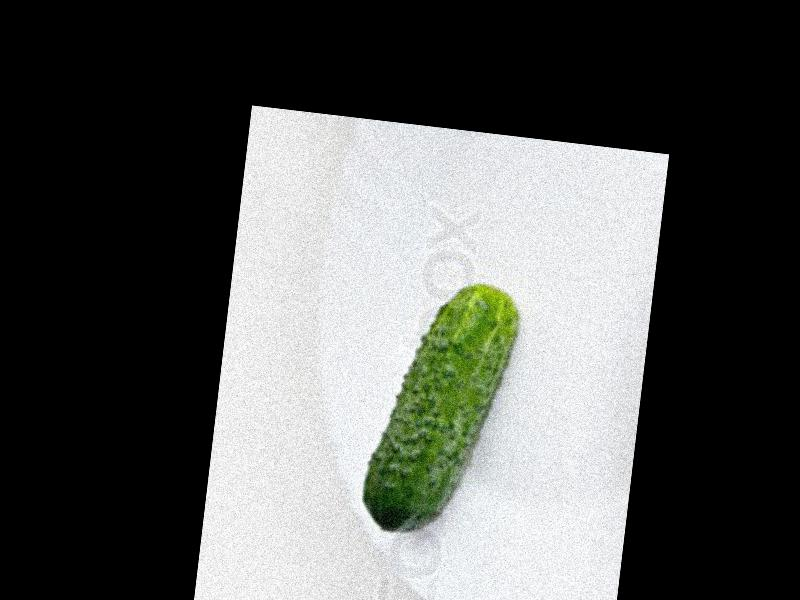Cucumber: (359, 275, 523, 540)
